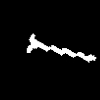half_double_crochet: (27, 34, 95, 61)
